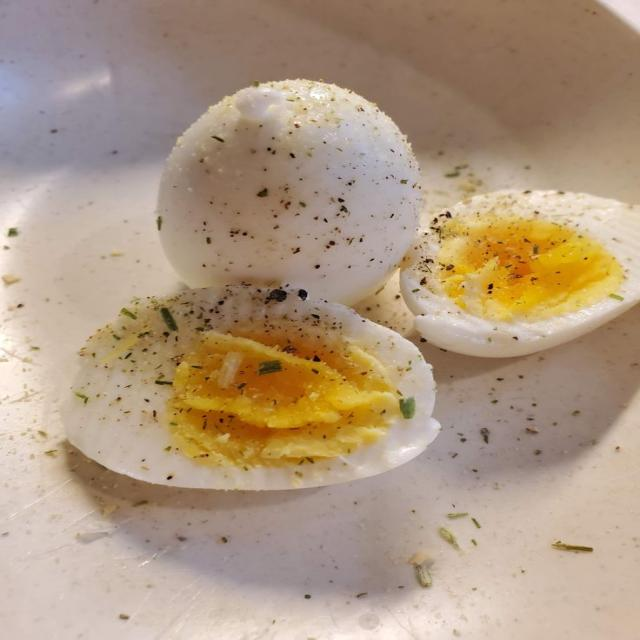eggs: (93, 87, 640, 566)
